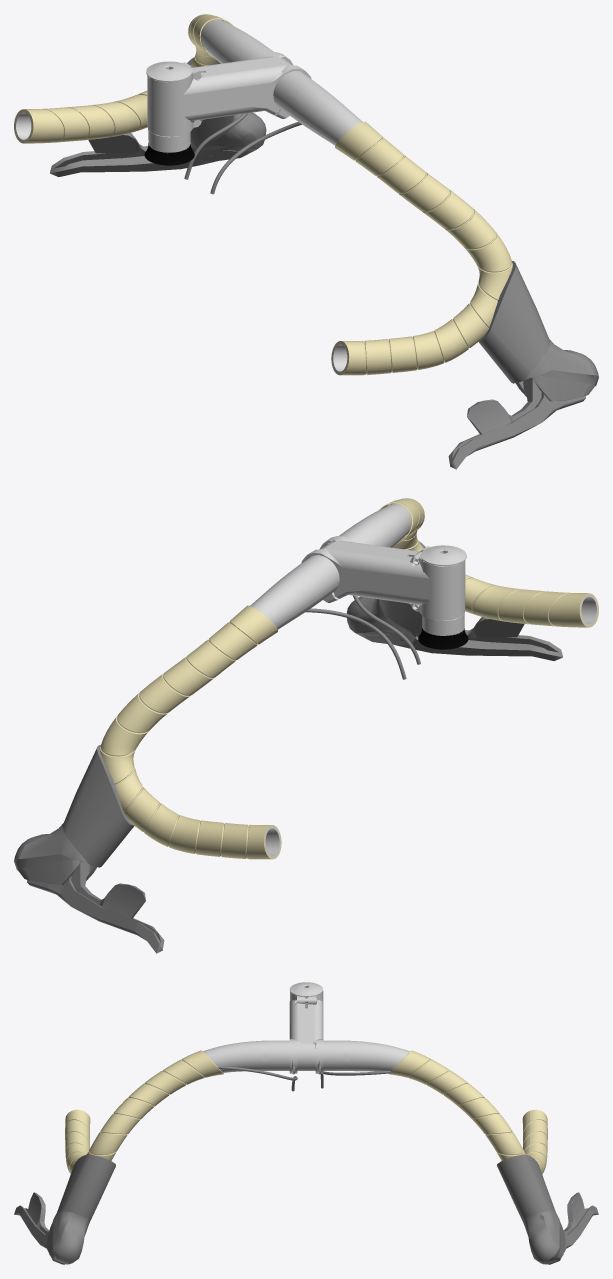
File: Mango_Handle_Track.glb
The picture shows the model from 3 angles, top to bottom: view 1: azimuth 30°, elevation 25°; view 2: azimuth 150°, elevation 25°; view 3: azimuth 270°, elevation 25°; orthographic projection. The views are drawn at different scales.
Visible parts, largest first — view 1: no_transformations (×6); view 2: no_transformations (×6); view 3: no_transformations (×5).
Part boxes in pixels (box(x1,y1,x2,y2)): no_transformations (×6): box(14, 14, 598, 469); no_transformations (×6): box(14, 498, 598, 953); no_transformations (×5): box(14, 982, 598, 1264).
Size of the model in its own units: 246 by 230 by 612.
